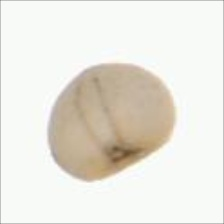L5: (73, 75, 125, 160), (106, 142, 154, 175)
L6: (42, 60, 181, 186)
